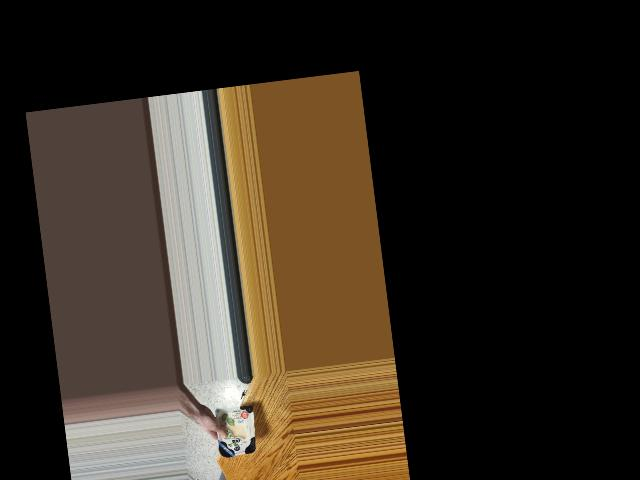cheese: (211, 393, 259, 469)
